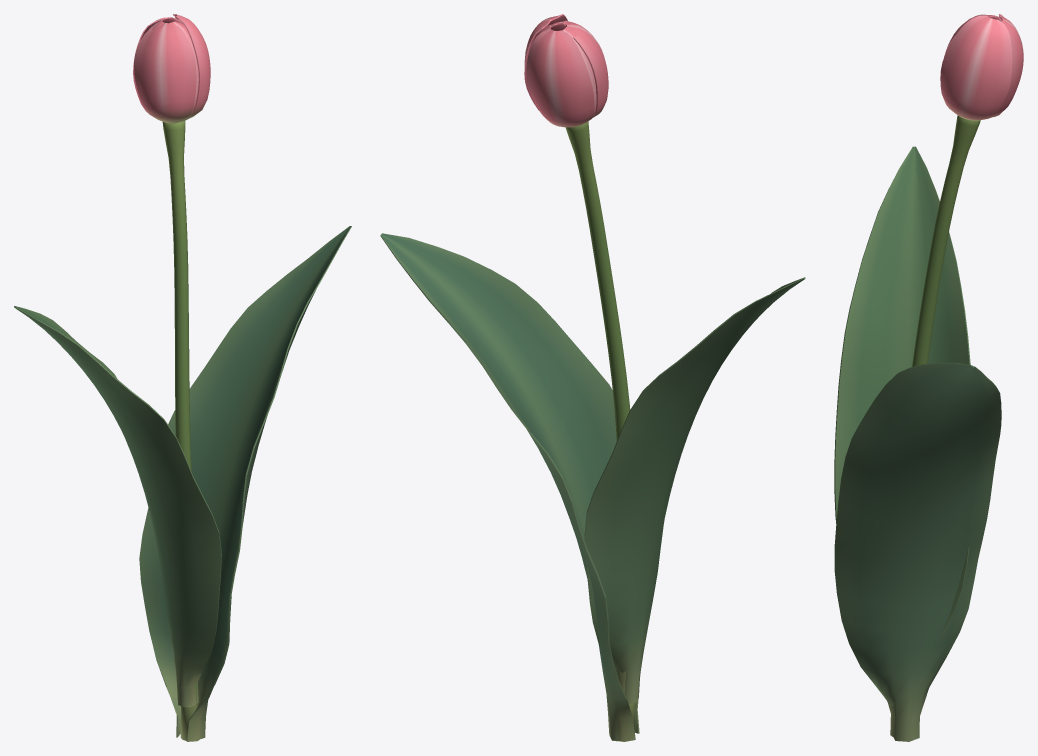
The model's file is closed-pink.glb.
3 views of the same model, side by side, from view 1: azimuth 30°, elevation 25°; view 2: azimuth 150°, elevation 25°; view 3: azimuth 270°, elevation 25° (orthographic). The views are drawn at different scales.
Parts seen in each view (by area): view 1: tulip-closed-pink; view 2: tulip-closed-pink; view 3: tulip-closed-pink.
Part boxes in pixels (x1,y1,x2,y2): tulip-closed-pink: (14, 14, 351, 741); tulip-closed-pink: (380, 14, 805, 741); tulip-closed-pink: (834, 14, 1023, 741).
Size of the model in its own units: 0.1964 by 0.3533 by 0.0828.
